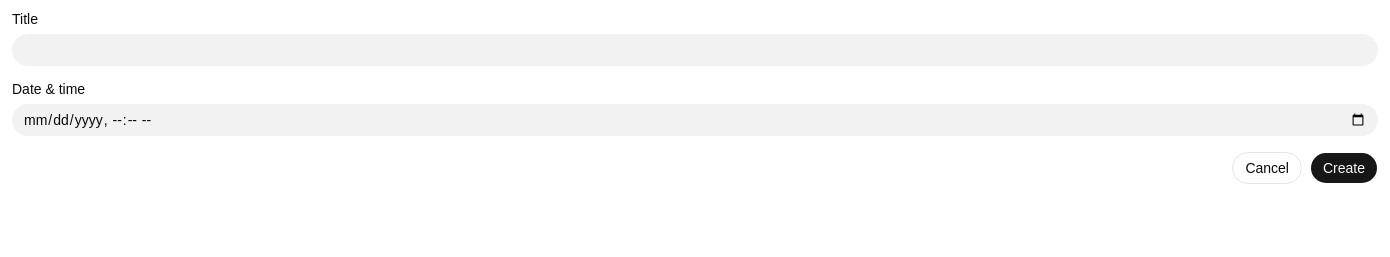
Test: EventForm — validation & focus › shows errors and focuses the first invalid field on empty submit
Click the button "Create" at (1344, 168), box [1310,152,1378,184]
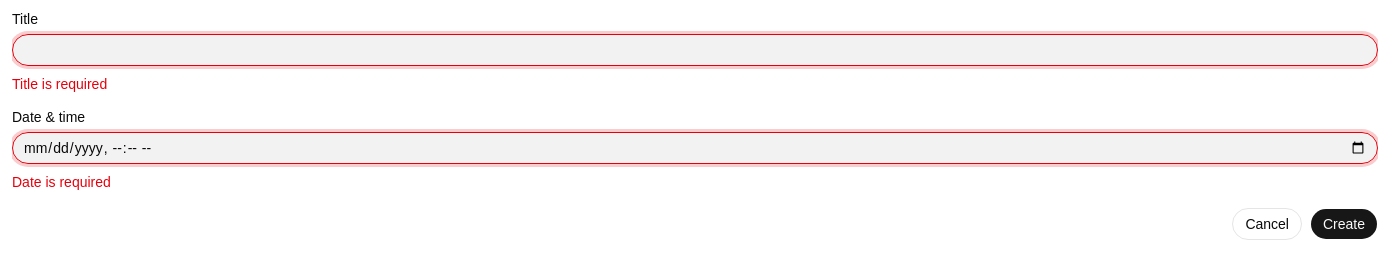
Expected: the text "Title is required" is shown, [12,76,107,92]
Expected: the text "Date is required" is shown, [12,174,111,190]
